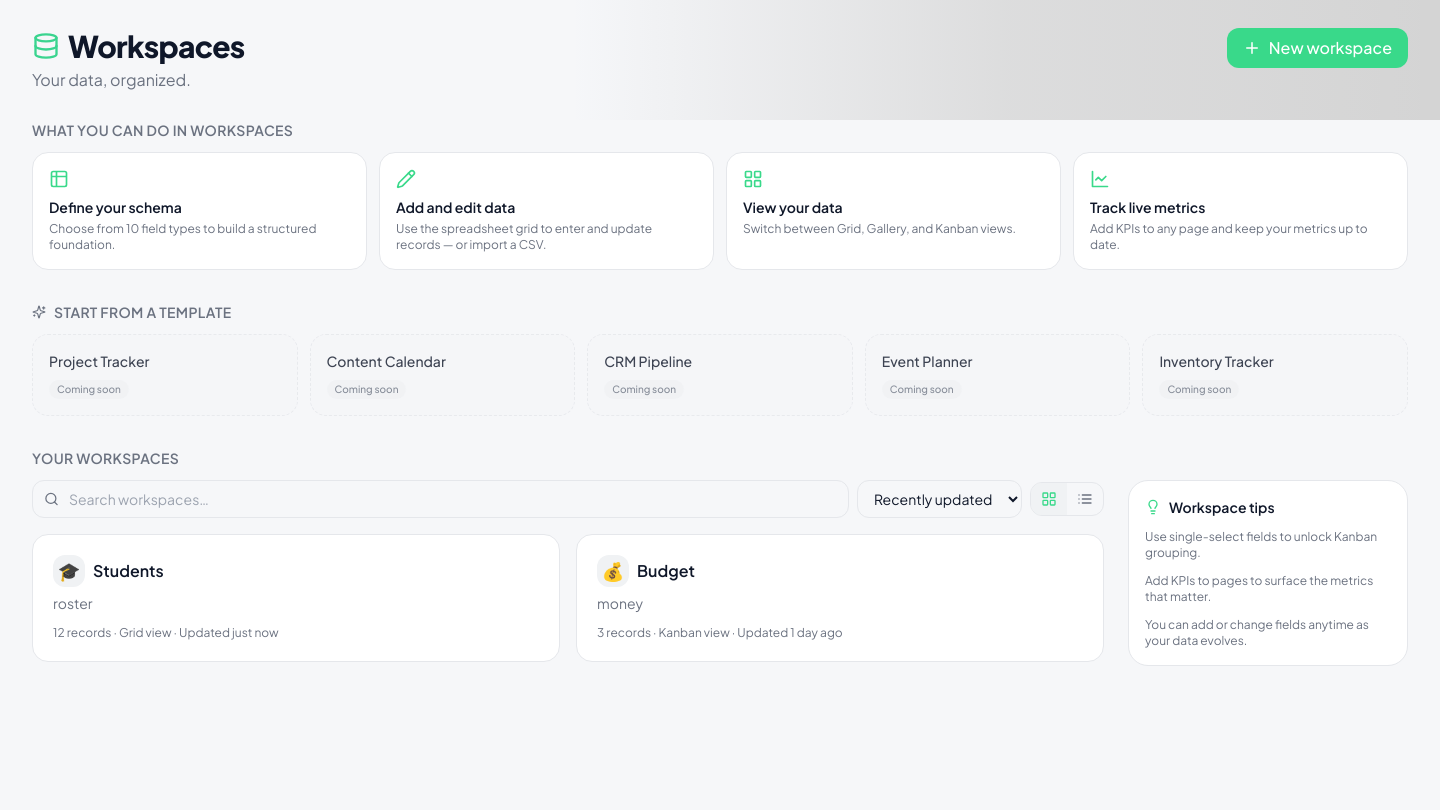
Scenario: WorkspacesListClient › search narrows the list
expect the heading "Students" is shown: met, box [93,559,164,583]
Type "bud" into the field with placeholder "Search workspaces…". click: (440, 499)
box: [32,480,849,518]
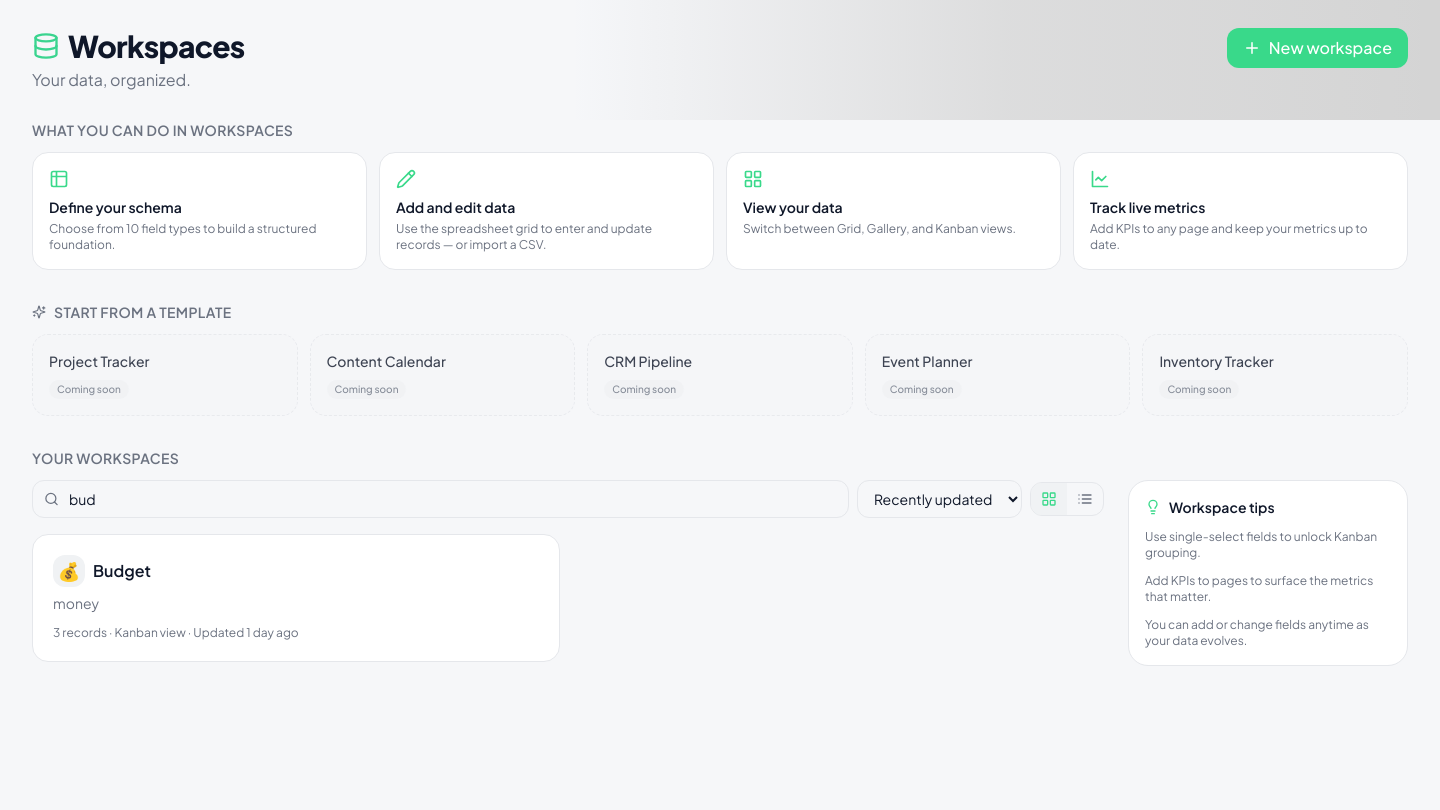
expect the heading "Budget" is shown: met, box [93,559,151,583]
expect the link "Students" is gone: met
